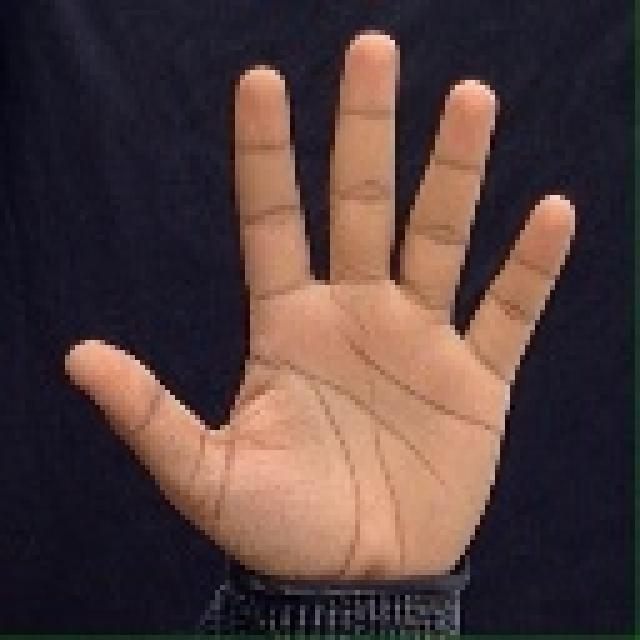Numeric-5: (60, 33, 575, 594)
